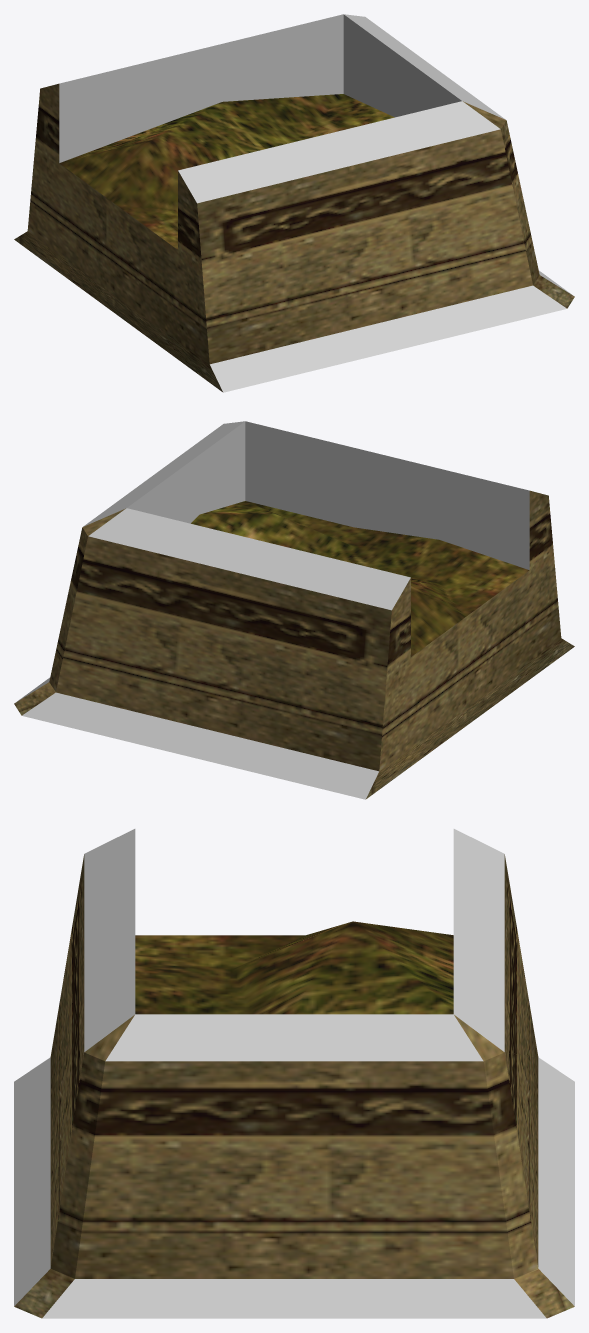
File: gzc_wj_24.fbx
3 renders of one model, top to bottom at view 1: azimuth 30°, elevation 25°; view 2: azimuth 150°, elevation 25°; view 3: azimuth 270°, elevation 25°, orthographic. The views are drawn at different scales.
Parts seen in each view (by area): view 1: gzc_wj_24; view 2: gzc_wj_24; view 3: gzc_wj_24.
Boxes of the visible parts, box(x1,y1,x2,y2) form: gzc_wj_24: box(14, 14, 574, 392); gzc_wj_24: box(14, 421, 574, 799); gzc_wj_24: box(14, 829, 574, 1318).
Size of the model in its own units: 507 by 253 by 508.
